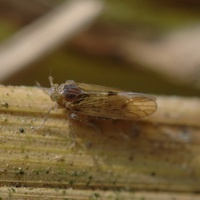insect: (49, 76, 156, 119)
